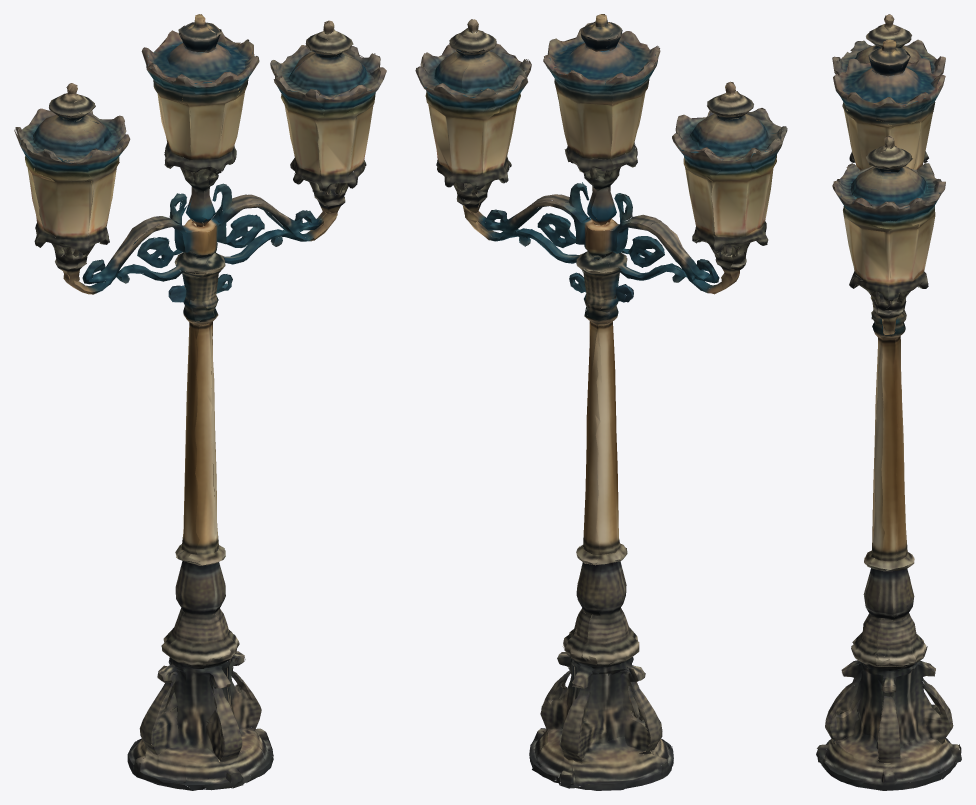
The model's file is unified--lamp.glb.
The picture shows the model from 3 angles, left to right: view 1: azimuth 30°, elevation 25°; view 2: azimuth 150°, elevation 25°; view 3: azimuth 270°, elevation 25°; orthographic projection. The views are drawn at different scales.
Visible parts, largest first — view 1: lamp-1; view 2: lamp-1; view 3: lamp-1.
Part boxes in pixels (x1,y1,x2,y2): lamp-1: [14, 14, 386, 790]; lamp-1: [415, 14, 787, 790]; lamp-1: [816, 14, 961, 790].
Size of the model in its own units: 1.6 by 3.21 by 0.5878.
1 material, 1 textured.
